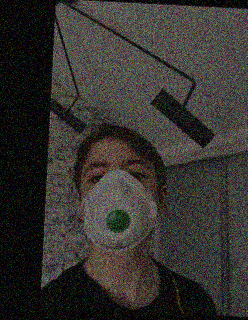with_mask: (80, 148, 158, 251)
